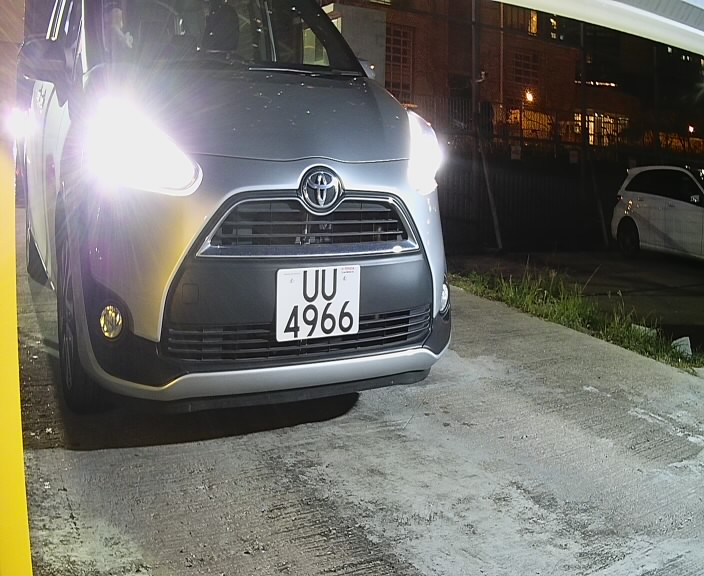License Plate: (272, 258, 366, 354)
